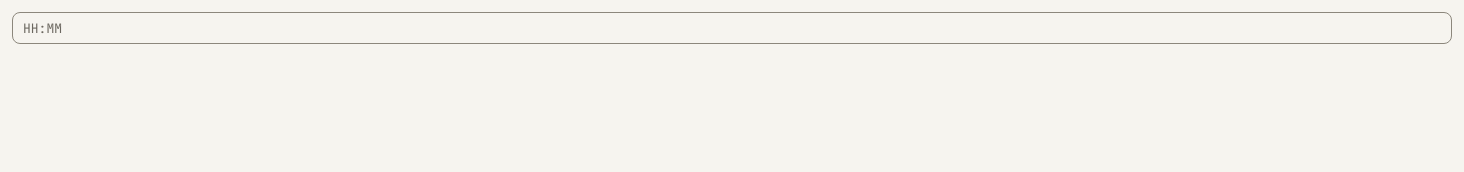
Test: TimeField › normalizes on blur and rejects invalid input without native time control
The width and height of the screenshot is (1464, 172).
In the field: (732, 28) [12, 12, 1452, 44], type "1745"
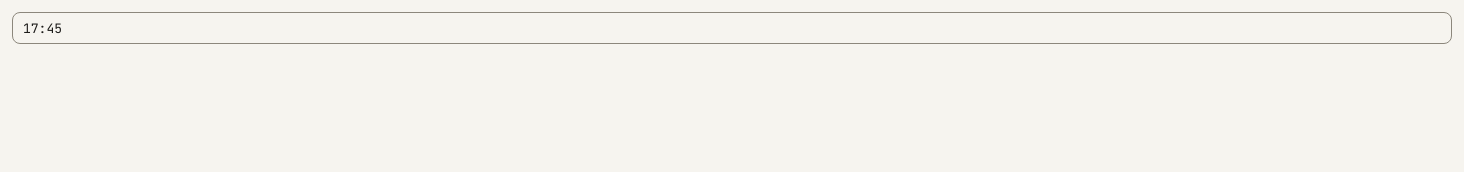
Replace the text in the field with "25:00": (732, 28) [12, 12, 1452, 44]
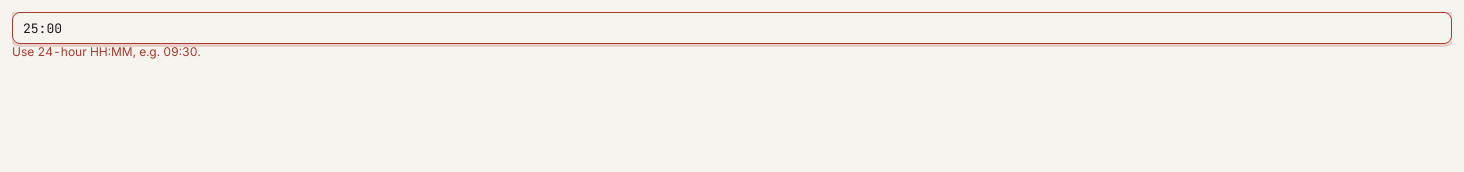
Check: the field is marked as invalid, box [12, 12, 1452, 44]
